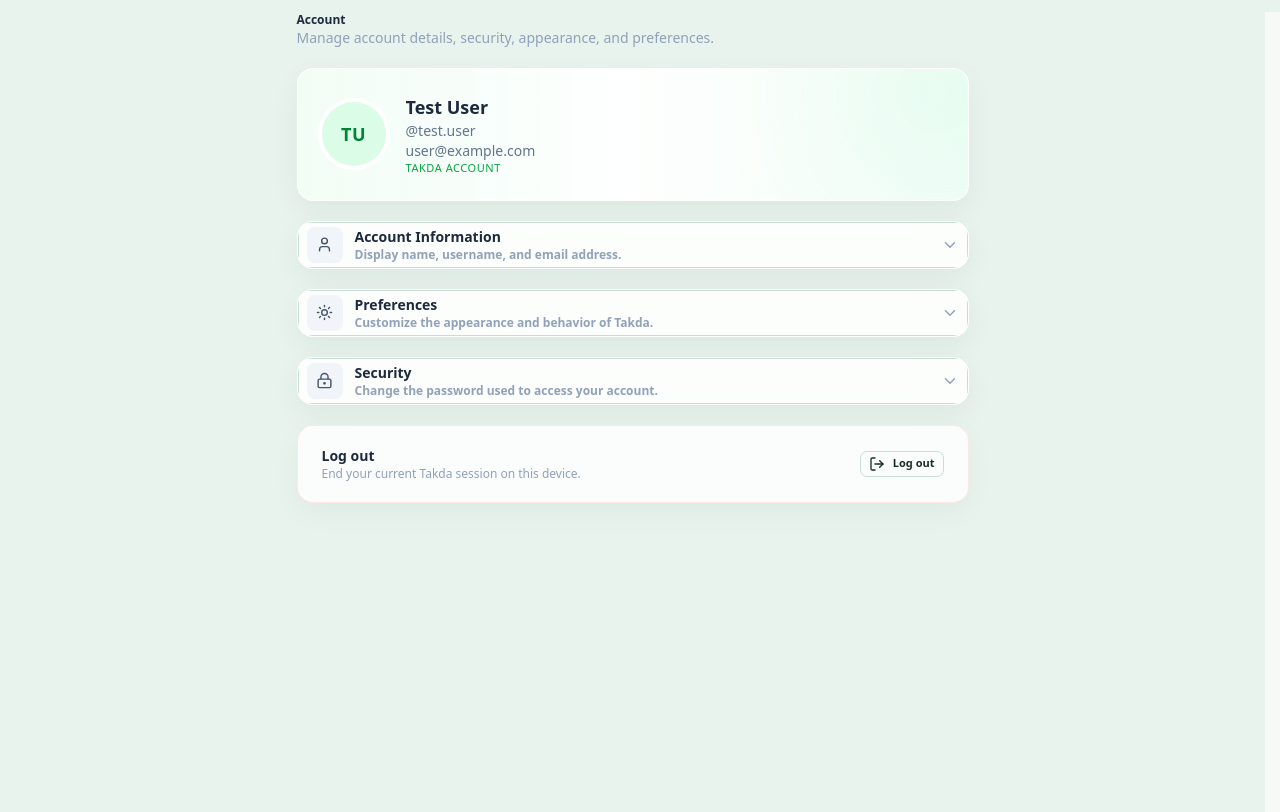
Profile › shows a pending notice without replacing the current confirmed email
Click the button "Account Information" at (324, 245), box [298,222,968,268]
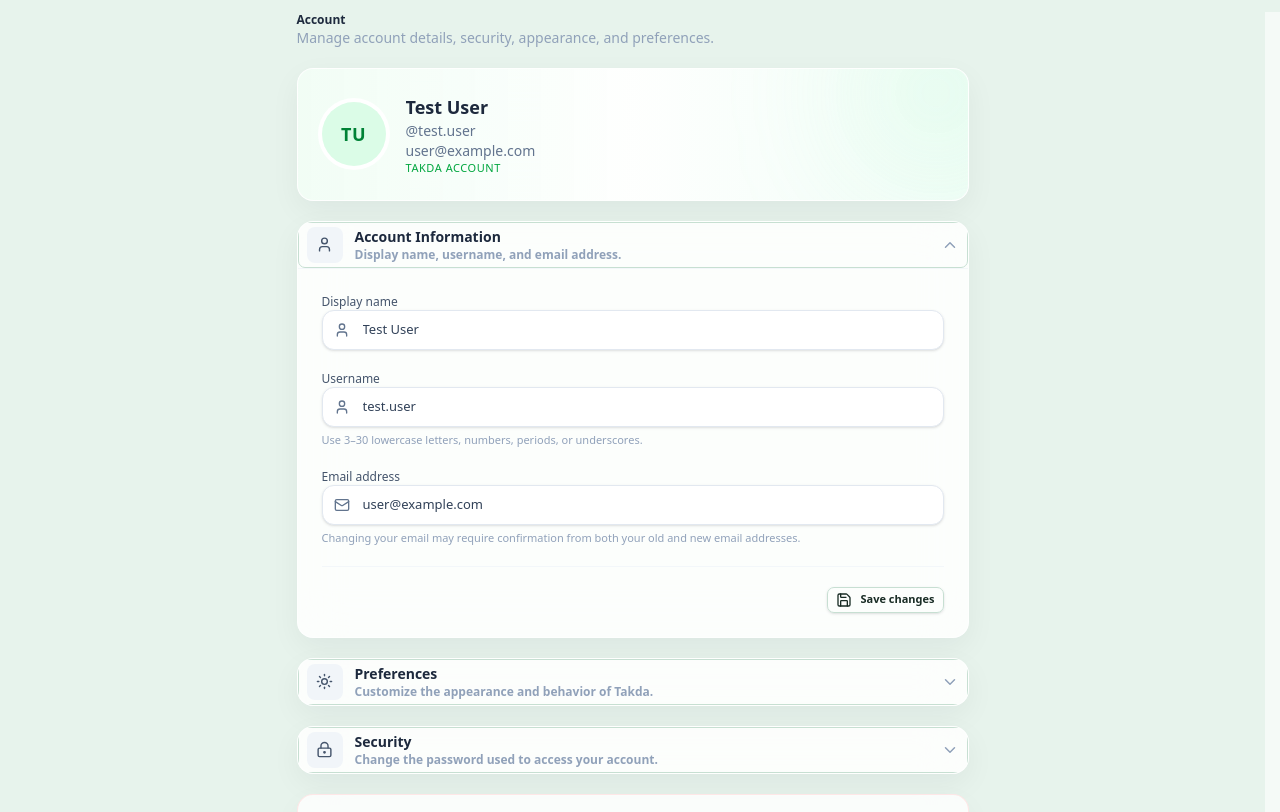
Replace the text in the field labelled "Email address" with "new@example.com" at (632, 505), box [322,485,944,525]
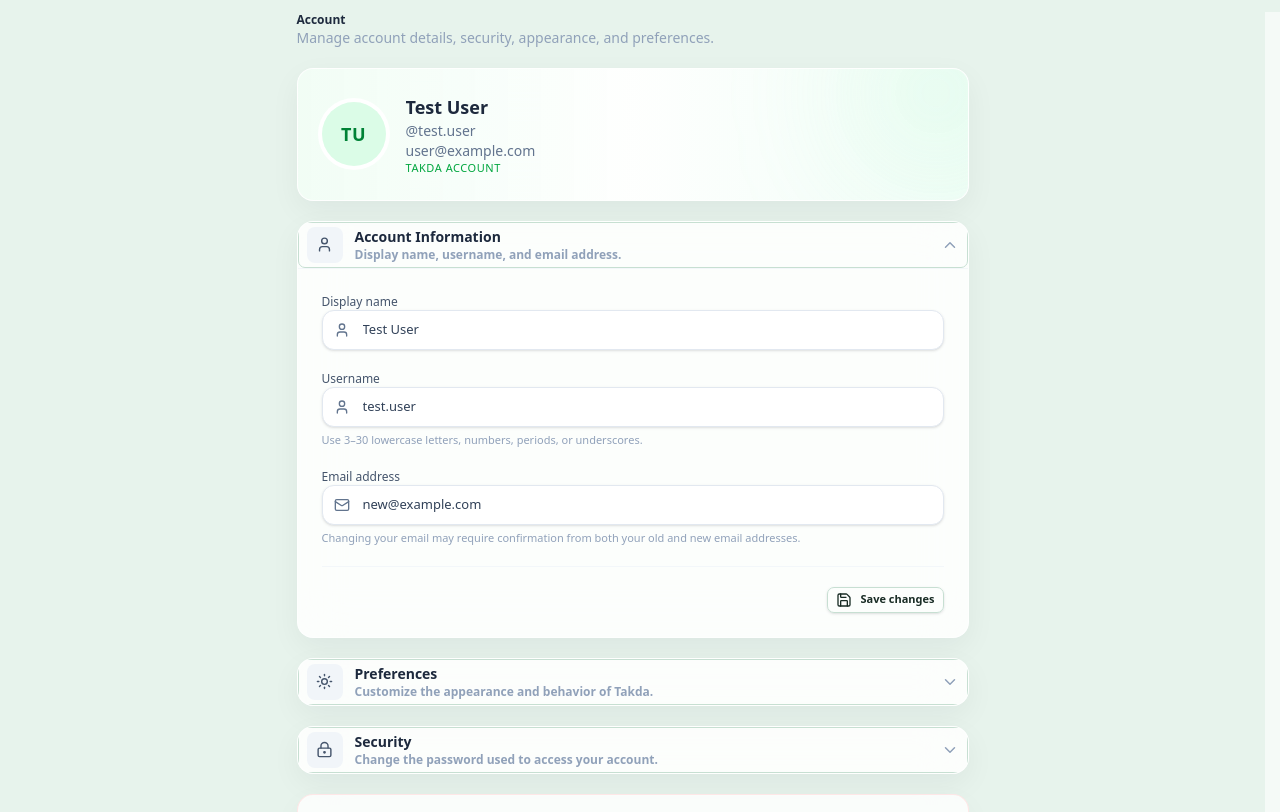
Click the button "Save changes" at (886, 600), box [828,587,944,613]
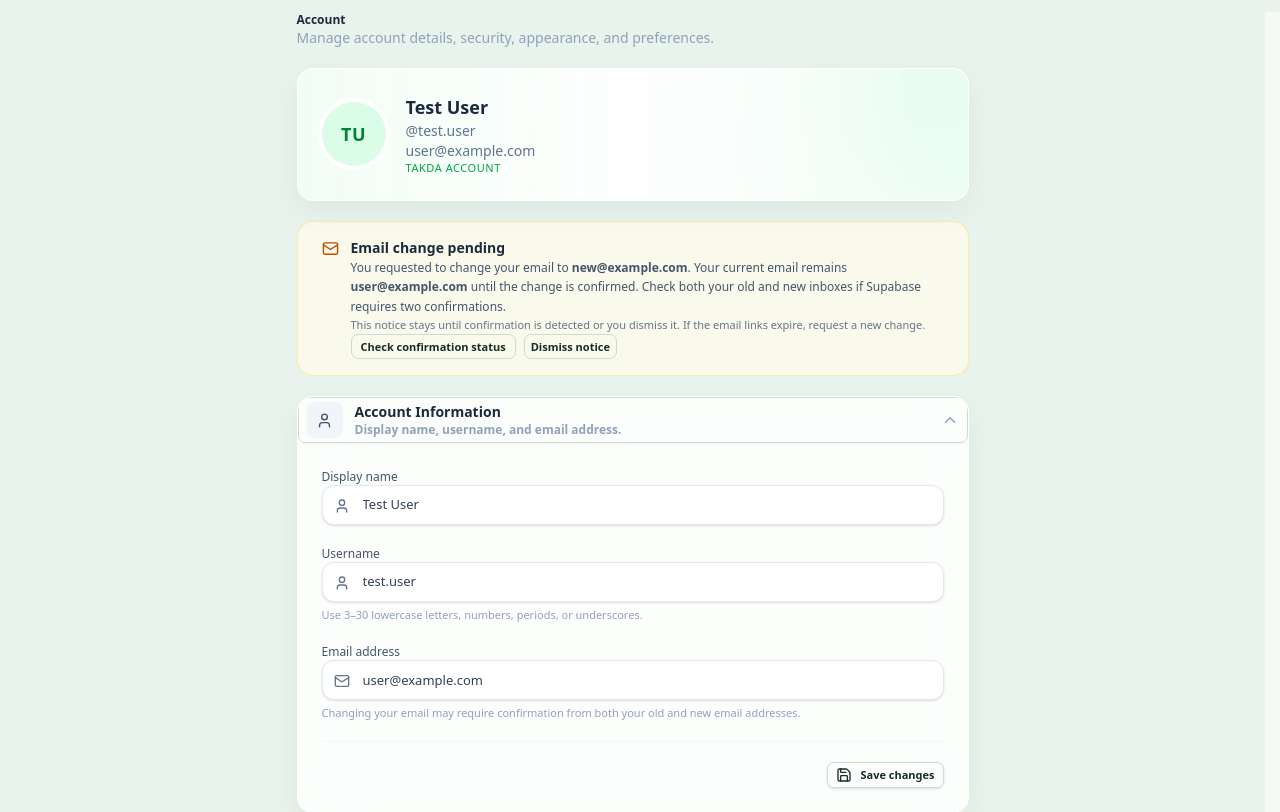
Expected: the message named "Pending email change" is shown, [296,221,968,376]
Expected: the text "new@example.com" is shown, [572,259,688,276]
Expected: the field labelled "Email address" holds "user@example.com", [322,661,944,700]
